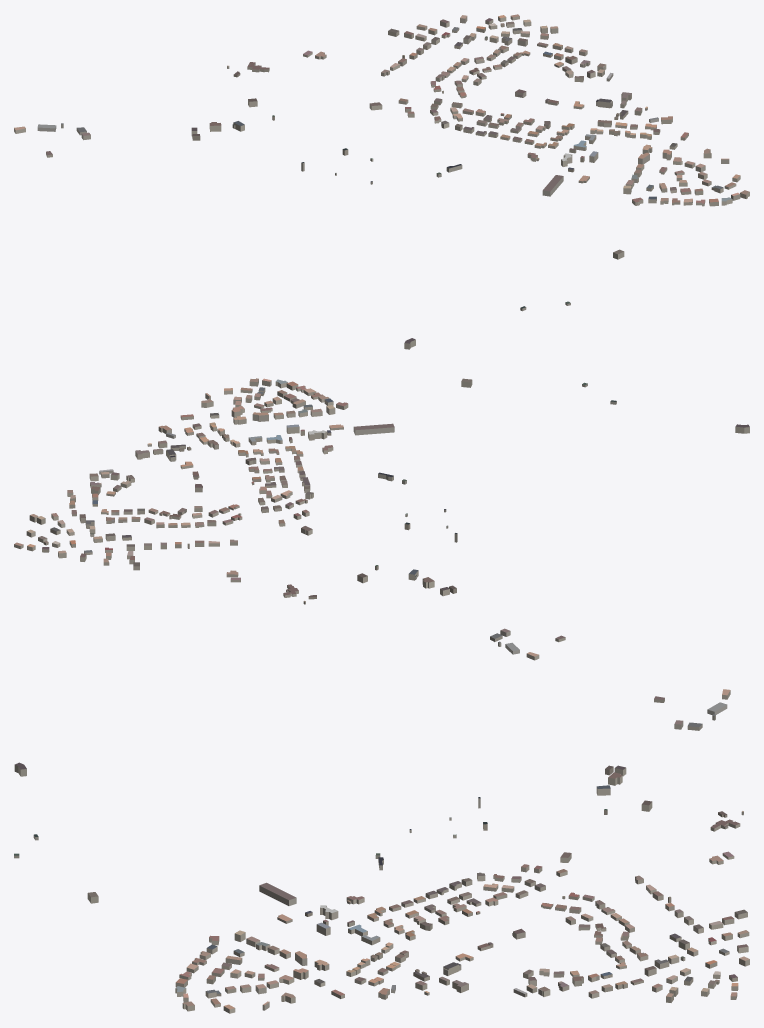
3 views of the same model, one above another, from view 1: azimuth 30°, elevation 25°; view 2: azimuth 150°, elevation 25°; view 3: azimuth 270°, elevation 25° (orthographic). The views are drawn at different scales.
Parts seen in each view (by area): view 1: tuile; view 2: tuile; view 3: tuile.
Boxes of the visible parts, <box> form: tuile: <box>14,14,749,349</box>; tuile: <box>14,378,749,660</box>; tuile: <box>14,689,749,1013</box>.
Size of the model in its own units: 966 by 51.27 by 1000.
